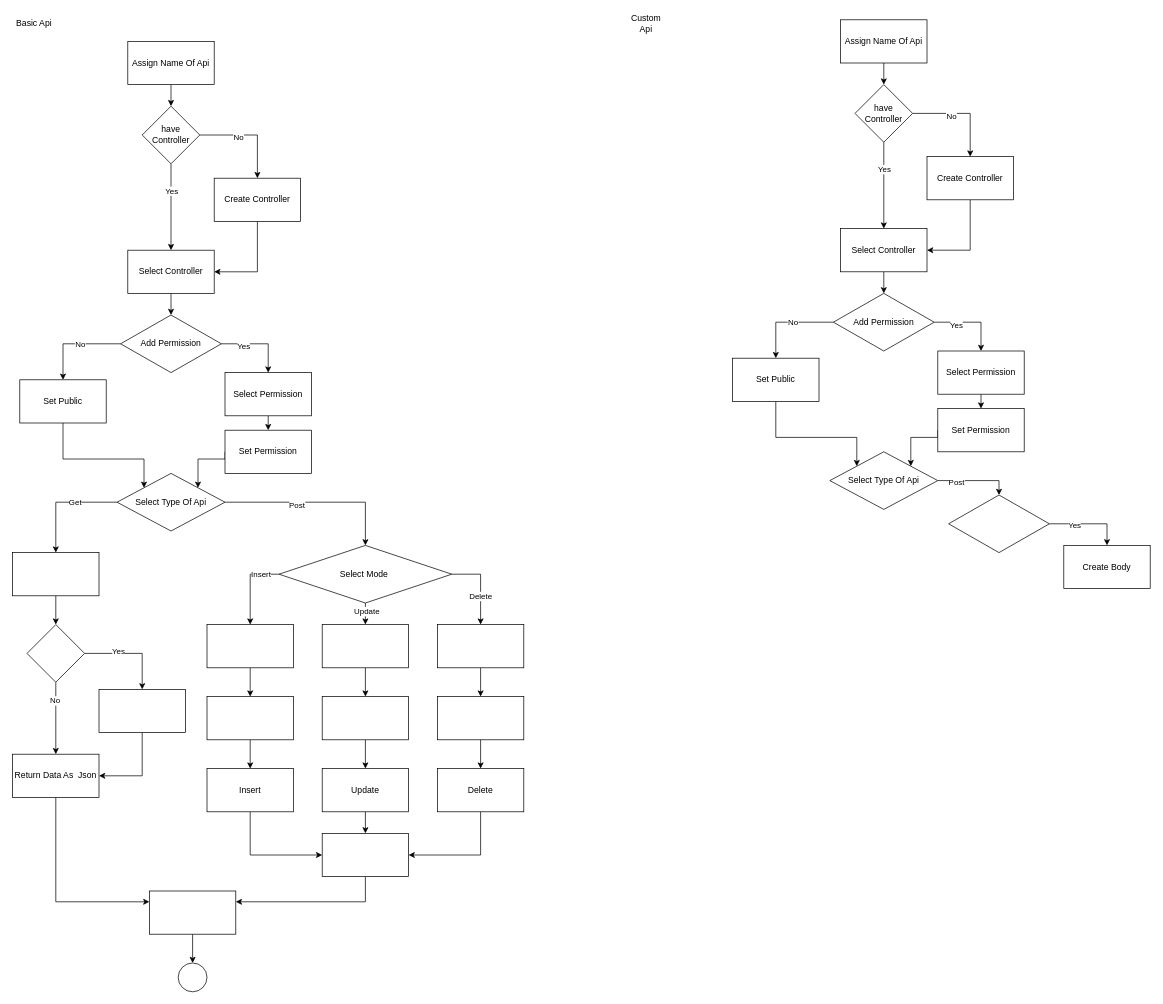
This 1163x1004 diagram has some shape labels left out. Here are the shapes that lost their labels. From the top down, the centre of each, then its label:
(998,523): Assign Body
(55,574): Select Table Or View To Show
(55,653): Add Route
(249,646): Assign Body For Insert
(365,646): Assign Body For Update
(480,646): Assign Body For Delete
(141,711): Select Field To Filter
(249,718): Select Table For Insert
(365,718): Select Table For Update
(480,718): Select Table For Delete
(365,855): Return Result As Json
(192,912): Save Data Api
